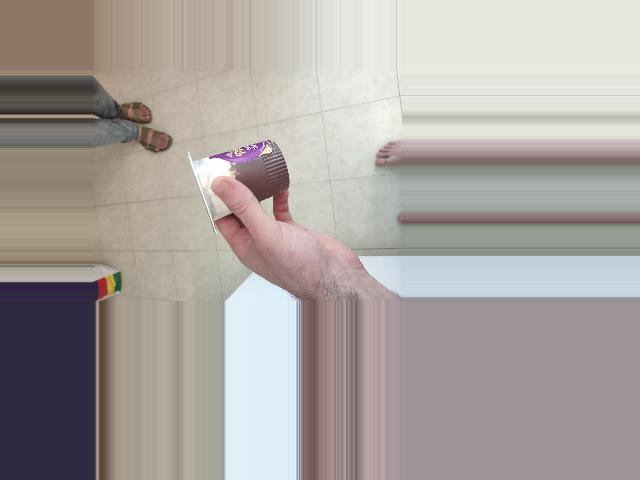milky: (185, 148, 301, 216)
